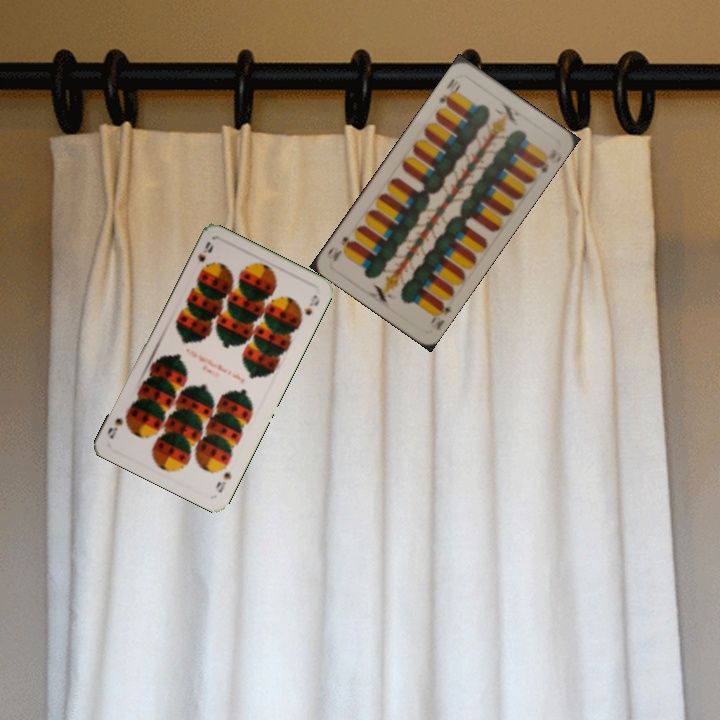E10: (434, 74, 463, 108), (426, 297, 455, 331)
S9: (211, 468, 234, 496), (194, 237, 216, 265)
